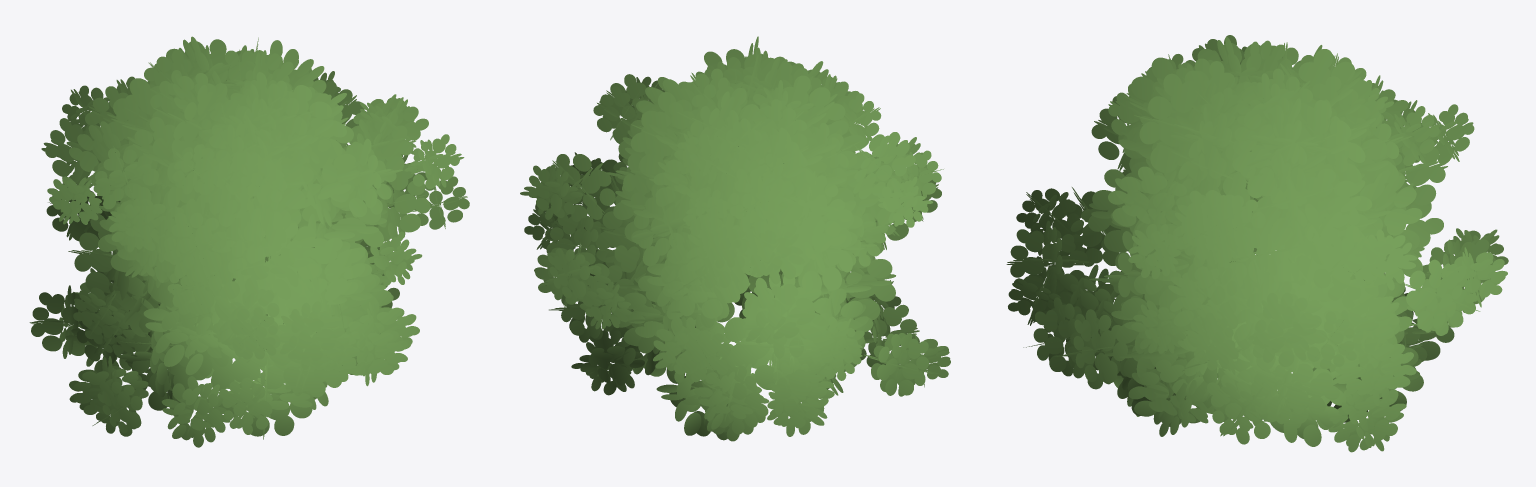
Rendered from nkbushlarge.glb.
3 views of the same model, side by side, from view 1: azimuth 30°, elevation 25°; view 2: azimuth 150°, elevation 25°; view 3: azimuth 270°, elevation 25° (orthographic). The views are drawn at different scales.
Parts seen in each view (by area): view 1: Bush_Large; view 2: Bush_Large; view 3: Bush_Large.
Boxes of the visible parts, x1,y1,x2,y2 form: Bush_Large: [29, 36, 469, 447]; Bush_Large: [520, 36, 950, 441]; Bush_Large: [1006, 35, 1508, 452].
Bounding box in the file's own units: 3.6 × 3.25 × 3.67.
Materials: 1 (1 with a texture image).
